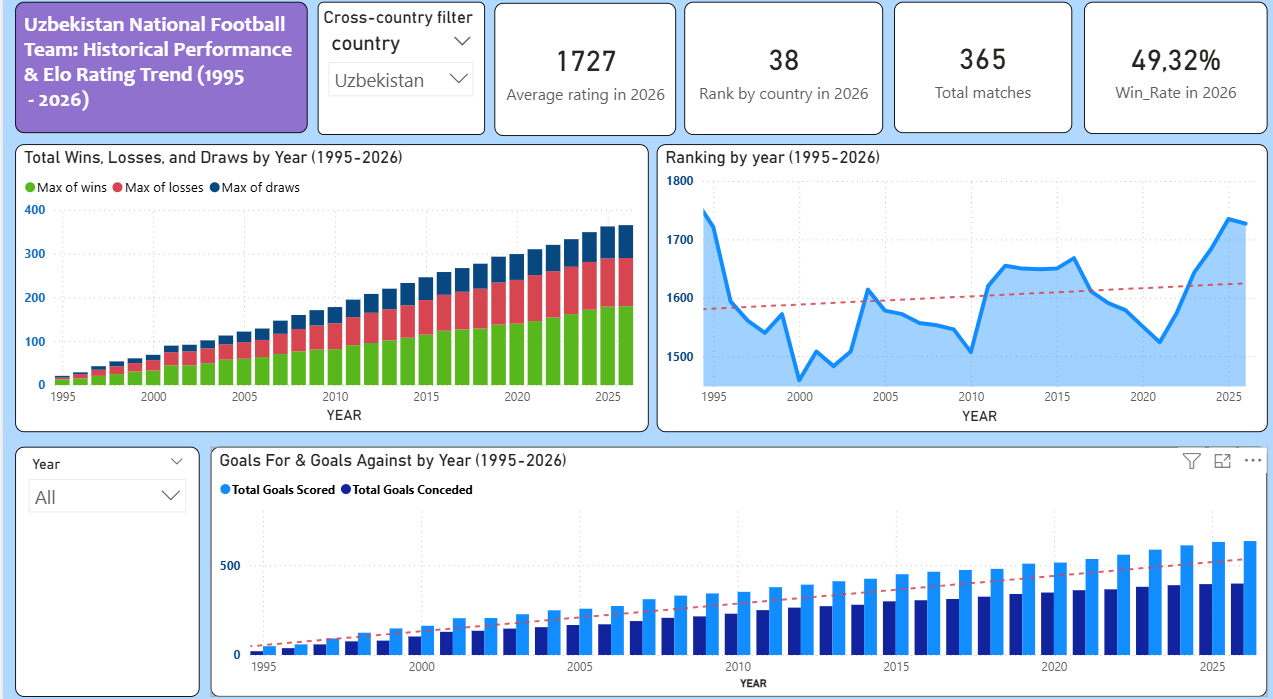

The dashboard page shown, as its layout file describes it:
{"tool":"powerbi","page":{"name":"Uzbekistan (1995 -2026)","canvas":[1280,720],"ordinal":1},"visuals":[{"type":"card","fields":{"Values":["Avg(elo_ratings_wc2026.rating)"]},"box":[494.4,8.9,183.3,134.4],"z":0},{"type":"card","fields":{"Values":["Avg(elo_ratings_wc2026.rank)"]},"box":[685.6,7.8,200,134.4],"z":1000},{"type":"slicer","title":"Cross-country filter","fields":{"Values":["elo_ratings_wc2026.country"]},"box":[316.7,7.8,168.9,134.4],"z":2000},{"type":"card","fields":{"Values":["Sum(elo_ratings_wc2026.matches_total)"]},"box":[896.7,7.8,178.9,132.2],"z":3000},{"type":"card","fields":{"Values":["elo_ratings_wc2026.Win_Rate"]},"box":[1087.5,7.5,185,133.3],"z":4000},{"type":"lineChart","title":"Ranking by year (1995-2026)","fields":{"Category":["elo_ratings_wc2026.year"],"Y":["Avg(elo_ratings_wc2026.rating)"]},"box":[657.7,150.8,614.6,290],"z":5000},{"type":"columnChart","title":"Total Wins, Losses, and Draws by Year (1995-2026)","fields":{"Category":["elo_ratings_wc2026.year"],"Y":["Max(elo_ratings_wc2026.wins)","Max(elo_ratings_wc2026.losses)","Max(elo_ratings_wc2026.draws)"]},"box":[12.2,151.1,637.8,290],"z":6000},{"type":"clusteredColumnChart","title":"Goals For & Goals Against by Year (1995-2026)","fields":{"Category":["elo_ratings_wc2026.year"],"Y":["Avg(elo_ratings_wc2026.goals_for)","Avg(elo_ratings_wc2026.goals_against)"]},"box":[208.9,455.6,1063.3,252.2],"z":7000},{"type":"textbox","box":[12.2,7.8,294.4,132.2],"z":8000},{"type":"slicer","fields":{"Values":["elo_ratings_wc2026.snapshot_date.Variation.Date Hierarchy.Year"]},"box":[12.2,455.6,185.6,252.2],"z":9000}]}

Visuals, with their boxes in screenshot pixels (x1, y1, x2, y2), scaled from the page's 1280x720 canvas onto the 1273x699 screenshot:
card - Avg(elo_ratings_wc2026.rating): rect(492, 9, 674, 139)
card - Avg(elo_ratings_wc2026.rank): rect(682, 8, 881, 138)
"Cross-country filter" slicer: rect(315, 8, 483, 138)
card - Sum(elo_ratings_wc2026.matches_total): rect(892, 8, 1070, 136)
card - elo_ratings_wc2026.Win_Rate: rect(1082, 7, 1266, 137)
"Ranking by year (1995-2026)" lineChart: rect(654, 146, 1265, 428)
"Total Wins, Losses, and Draws by Year (1995-2026)" columnChart: rect(12, 147, 646, 428)
"Goals For & Goals Against by Year (1995-2026)" clusteredColumnChart: rect(208, 442, 1265, 687)
textbox: rect(12, 8, 305, 136)
slicer - elo_ratings_wc2026.snapshot_date.Variation.Date Hierarchy.Year: rect(12, 442, 197, 687)
